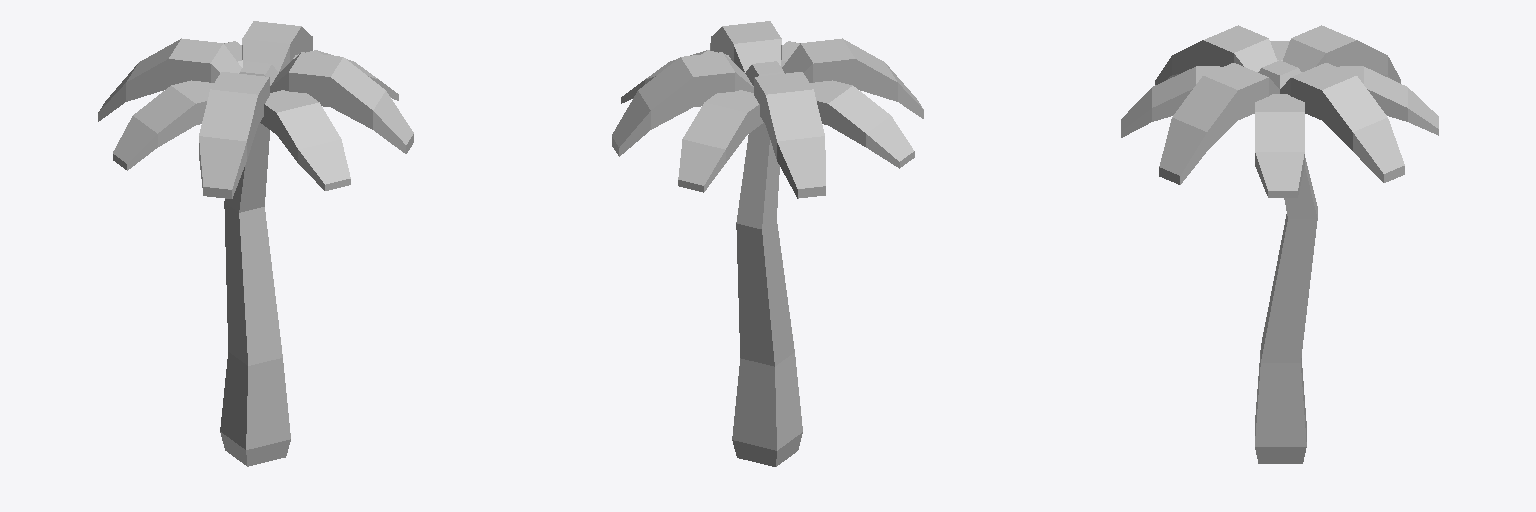
File: palm_detailed_long.obj
3 renders of one model, left to right at view 1: azimuth 30°, elevation 25°; view 2: azimuth 150°, elevation 25°; view 3: azimuth 270°, elevation 25°, orthographic.
Parts seen in each view (by area): view 1: Group 154, Group 152; view 2: Group 154, Group 152; view 3: Group 154, Group 152.
Boxes of the visible parts, x1,y1,x2,y2 form: Group 154: [98, 21, 413, 198]; Group 152: [220, 123, 290, 466]; Group 154: [612, 21, 923, 198]; Group 152: [732, 123, 802, 466]; Group 154: [1121, 25, 1438, 197]; Group 152: [1255, 158, 1317, 463].
Bounding box in the file's own units: 15.44 × 21.26 × 15.44.